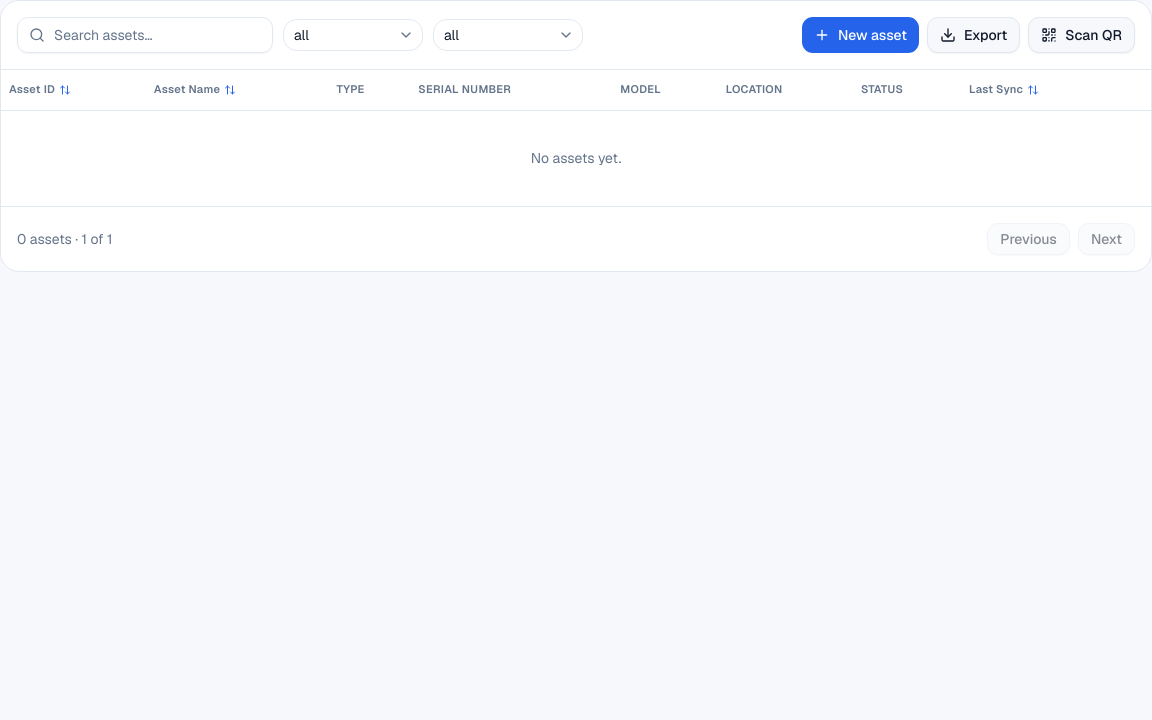
Test: AssetTable write gate (New asset) › opens the dialog with no type pre-selected on the all-types view
Click the button "New asset". click: (860, 35)
box: x1=802 y1=17 x2=919 y2=53
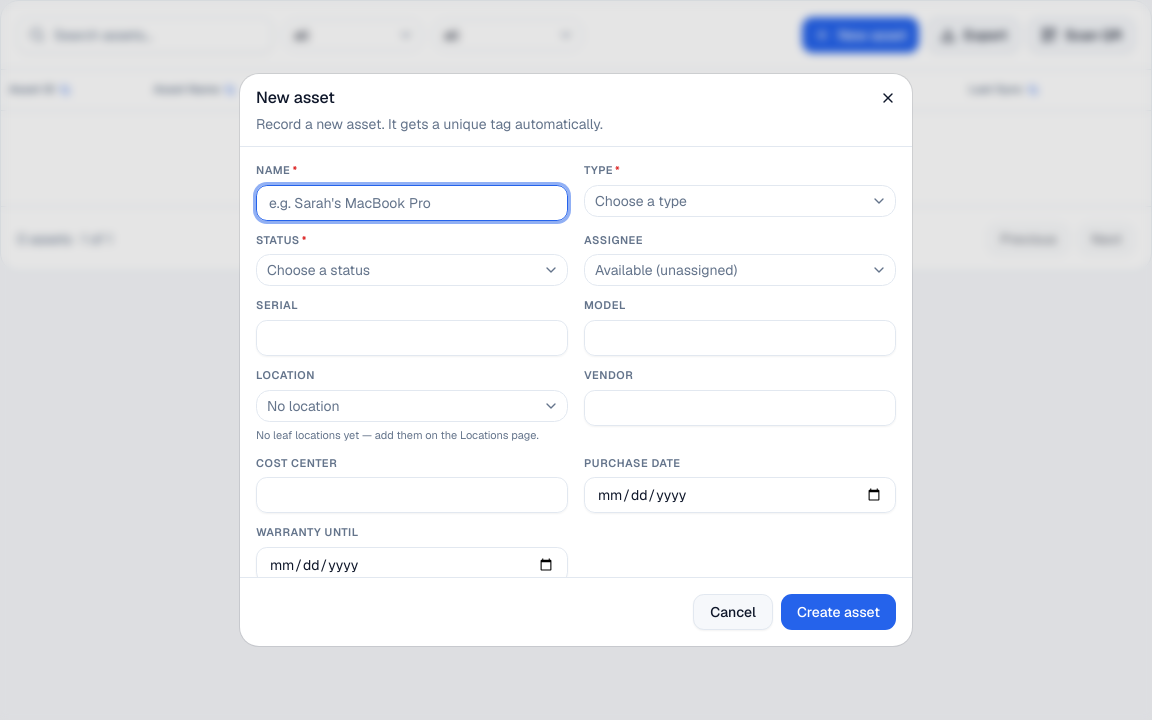
Expected: the button "Create asset" is shown, x1=781 y1=594 x2=896 y2=630
Expected: the text "Choose a type" is shown, x1=595 y1=192 x2=687 y2=210
